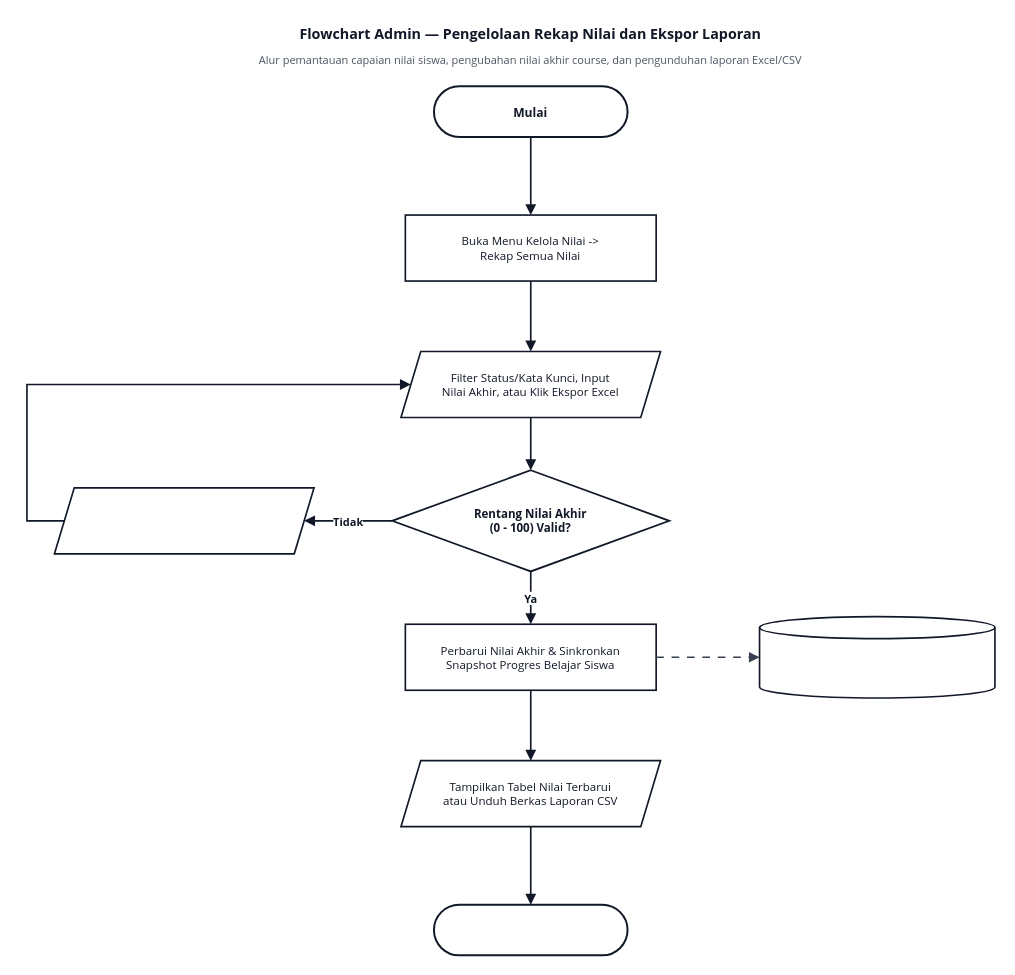
Some shapes in this 1015 by 975 pixel diagram are drawn without their labels. The shapes that lost their labels are listed below. From the top down, each one's centre as x and y in pixels, then its label:
At [183,520]: "Tampilkan Pesan Validasi Rentang Nilai Course".
At [876,656]: "SQL Server & MySQL: student_progress_snapshots & course_enrollments".
At [530,929]: "Selesai".
